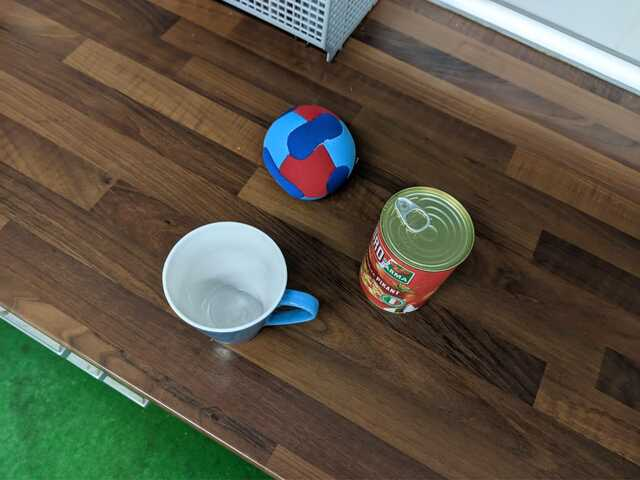005_tomato_soup_can: (355, 183, 478, 321)
025_mug: (153, 215, 323, 350)
057_racquetball: (257, 100, 365, 207)
